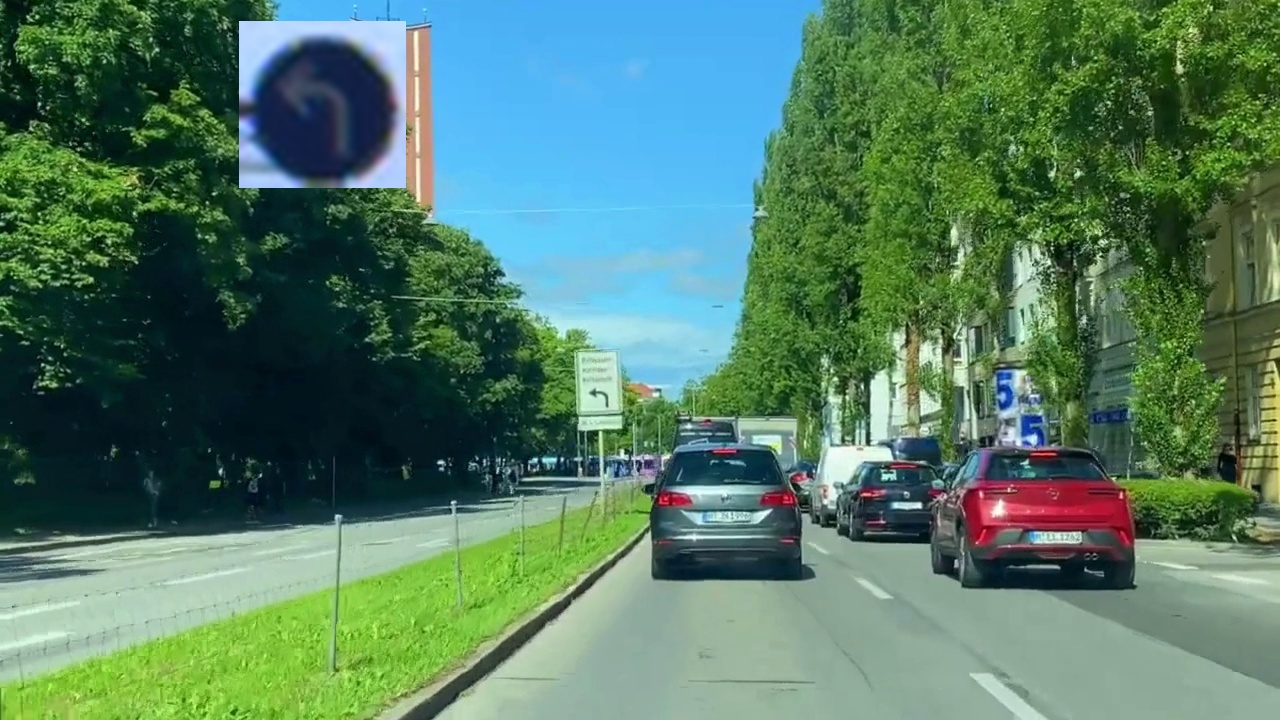Turn left: (239, 21, 406, 188)
